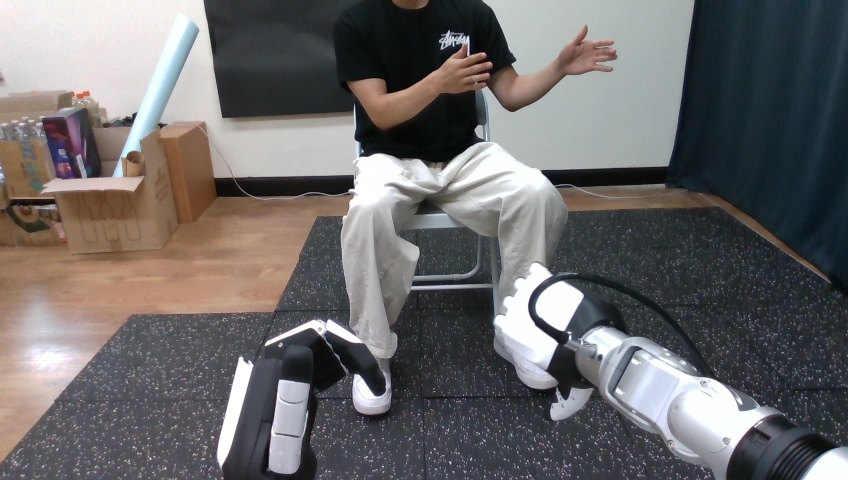left robot hand: (494, 263, 847, 479), (217, 320, 389, 478), (555, 25, 616, 75)
